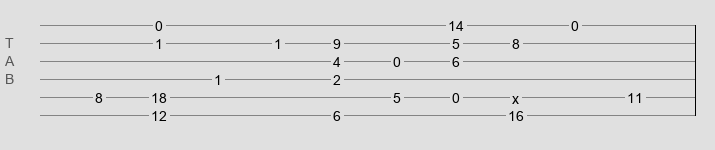0: (155, 18, 163, 28), (393, 54, 401, 64), (452, 90, 460, 100), (571, 18, 579, 28)
1: (155, 36, 163, 46), (214, 72, 222, 82), (274, 36, 282, 46)
11: (627, 90, 643, 100)
12: (151, 108, 167, 118)
14: (448, 18, 464, 28)
16: (508, 108, 524, 118)
18: (151, 90, 167, 100)
2: (333, 72, 341, 82)
4: (333, 54, 341, 64)
5: (393, 90, 401, 100), (452, 36, 460, 46)
6: (333, 108, 341, 118), (452, 54, 460, 64)
8: (95, 90, 103, 100), (512, 36, 520, 46)
9: (333, 36, 341, 46)
x: (512, 91, 519, 99)
